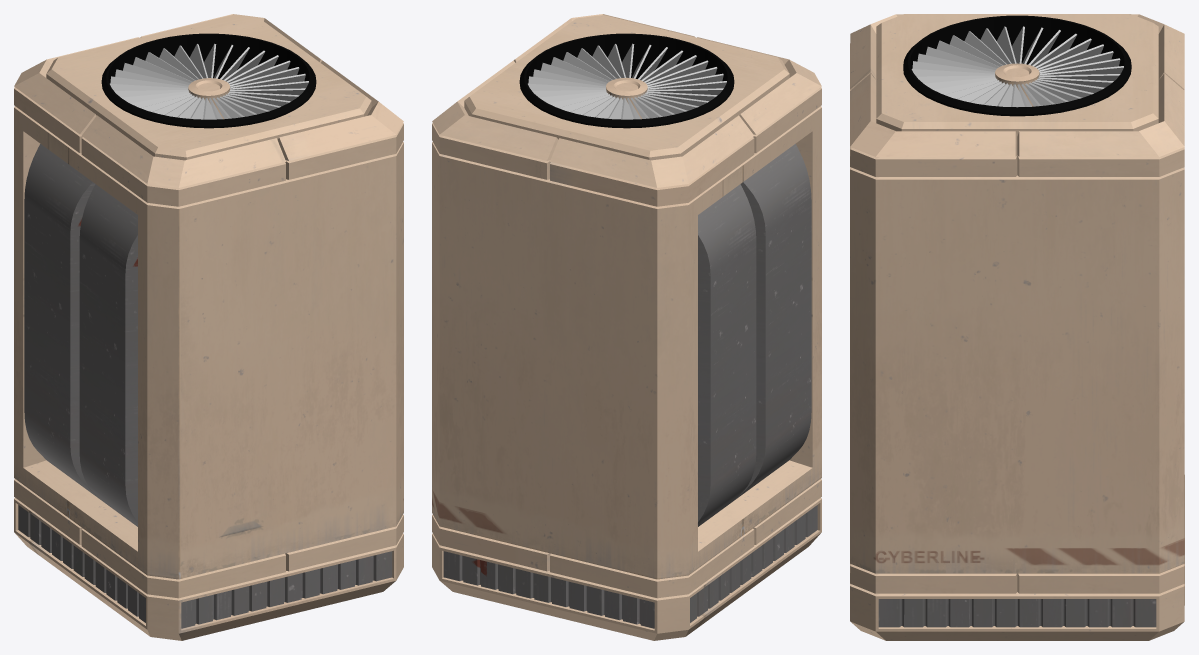
The model's file is KB3D_CBP_ACunit_C.fbx.
3 renders of one model, left to right at view 1: azimuth 30°, elevation 25°; view 2: azimuth 150°, elevation 25°; view 3: azimuth 270°, elevation 25°, orthographic. The views are drawn at different scales.
Parts seen in each view (by area): view 1: KB3D_CBP_ACunit_C_Main; view 2: KB3D_CBP_ACunit_C_Main; view 3: KB3D_CBP_ACunit_C_Main.
Part boxes in pixels (<box>): KB3D_CBP_ACunit_C_Main: <box>14,14,403,640</box>; KB3D_CBP_ACunit_C_Main: <box>432,14,821,640</box>; KB3D_CBP_ACunit_C_Main: <box>850,14,1184,640</box>.
Bounding box in the file's own units: 93.72 × 166 × 97.27.
